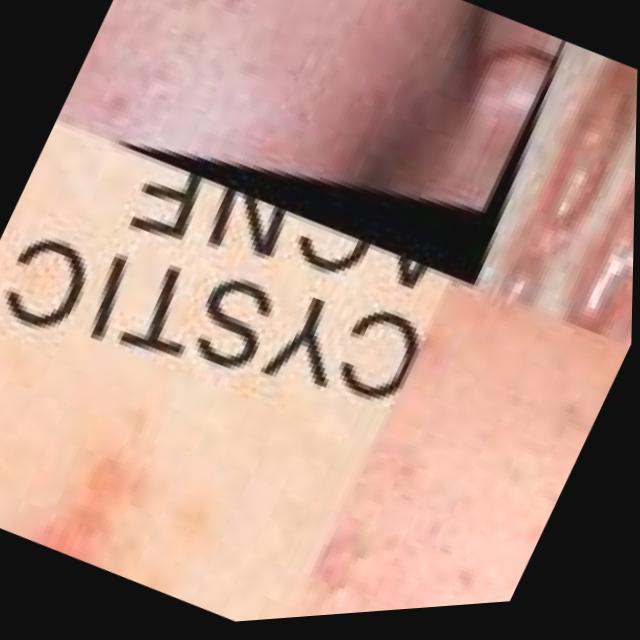cyst: (520, 70, 640, 223), (570, 191, 633, 337), (505, 268, 551, 320)
